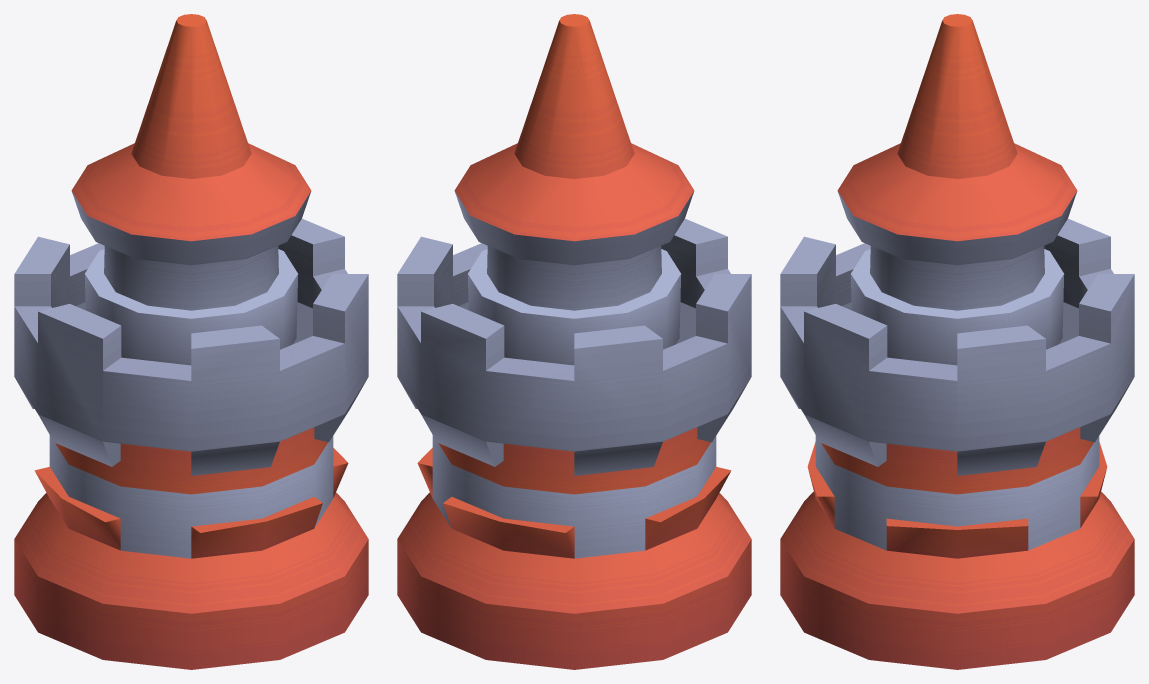
File: tower-defense-kit--tower-round-build-f.glb
3 views of the same model, side by side, from view 1: azimuth 30°, elevation 25°; view 2: azimuth 150°, elevation 25°; view 3: azimuth 270°, elevation 25° (orthographic).
Parts seen in each view (by area): view 1: tower-round-build-f; view 2: tower-round-build-f; view 3: tower-round-build-f.
Part boxes in pixels (x1=…): tower-round-build-f: x1=14, y1=14, x2=368, y2=669; tower-round-build-f: x1=397, y1=14, x2=751, y2=669; tower-round-build-f: x1=780, y1=14, x2=1134, y2=669.
Size of the model in its own units: 1 by 1.79 by 1.
1 material, 1 textured.
